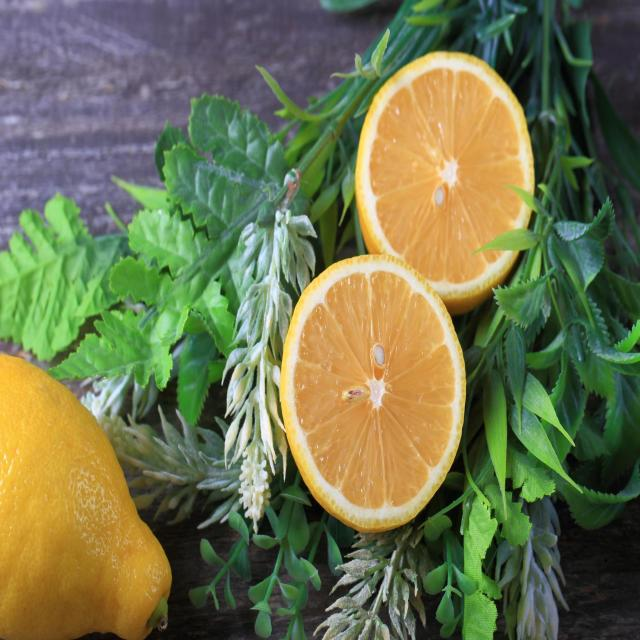lemon: (276, 248, 470, 538)
